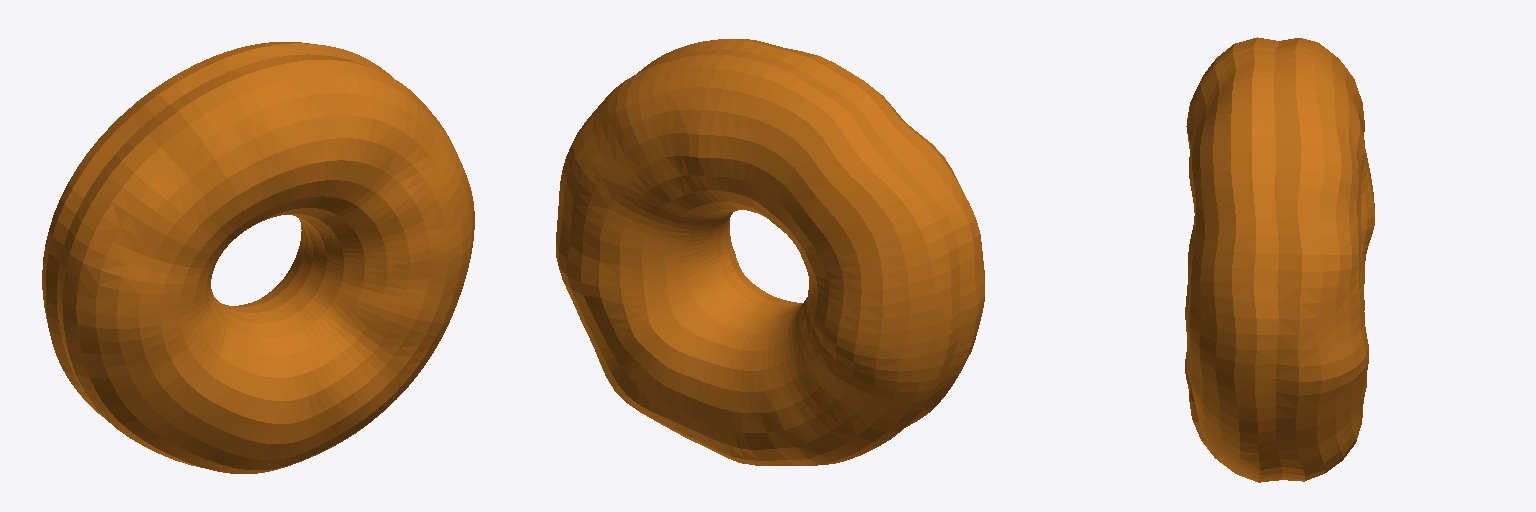
File: testDonut.obj
3 views of the same model, side by side, from view 1: azimuth 30°, elevation 25°; view 2: azimuth 150°, elevation 25°; view 3: azimuth 270°, elevation 25° (orthographic).
Parts seen in each view (by area): view 1: donut_トーラス; view 2: donut_トーラス; view 3: donut_トーラス.
Boxes of the visible parts, box(x1,y1,x2,y2) form: donut_トーラス: box(42, 42, 474, 473); donut_トーラス: box(556, 39, 984, 465); donut_トーラス: box(1185, 37, 1374, 482).
Size of the model in its own units: 0.0927 by 0.088 by 0.038.